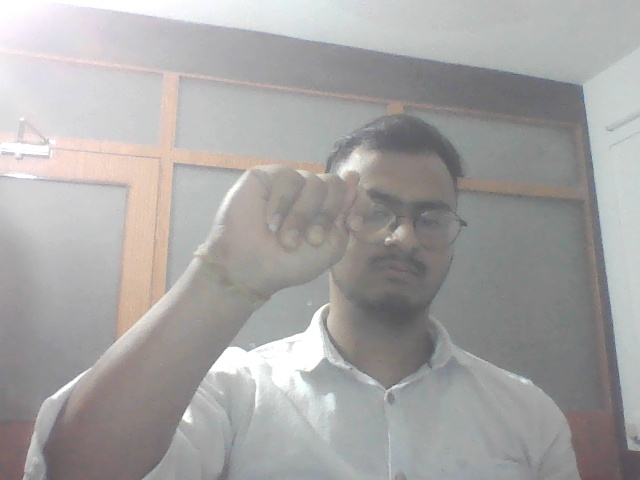Toilet: (214, 154, 374, 301)
